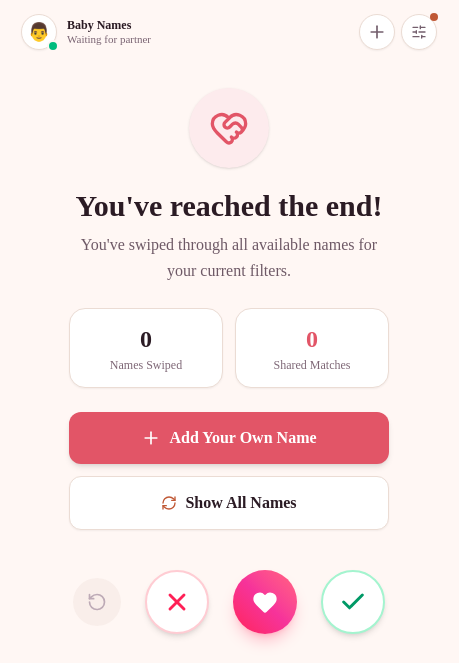
Test case: DeckScreen › clears an exhausted filter and fetches the full catalogue
expect the heading "You've reached the end!" is shown: met, box [76,188,382,224]
Click the button "Show All Names" at (229,503), box [69,476,389,530]
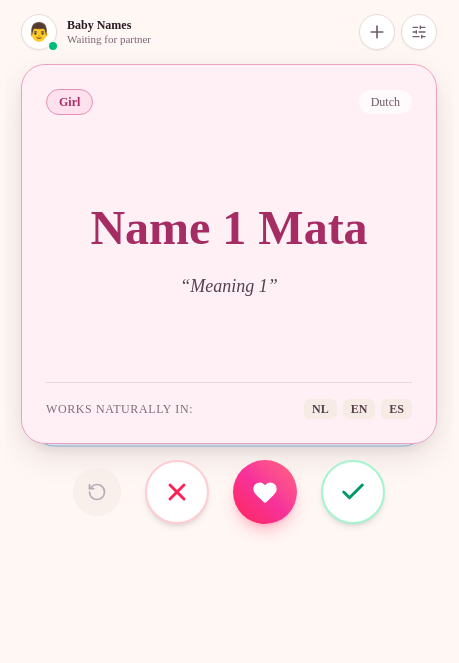
expect the heading "Name 1 Mata" is shown: met, box [90,201,368,254]
